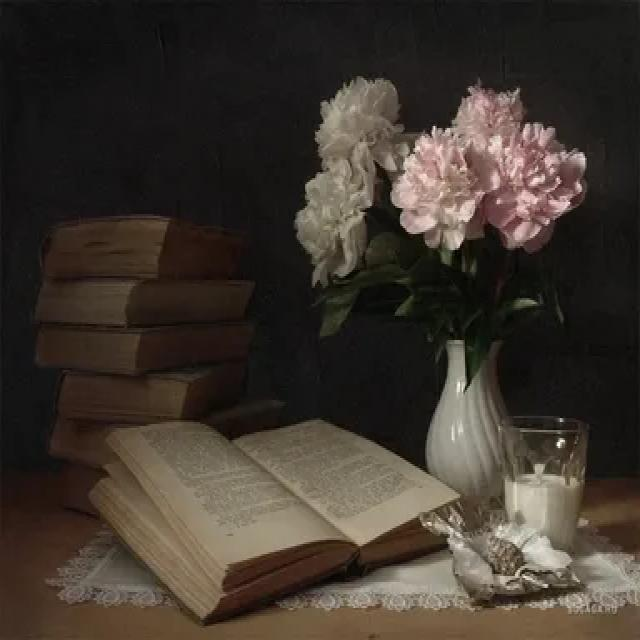book: (85, 391, 471, 620)
